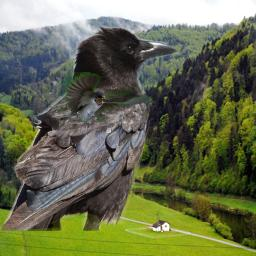Crow: (0, 25, 180, 231)
Swallow: (57, 72, 153, 122)
